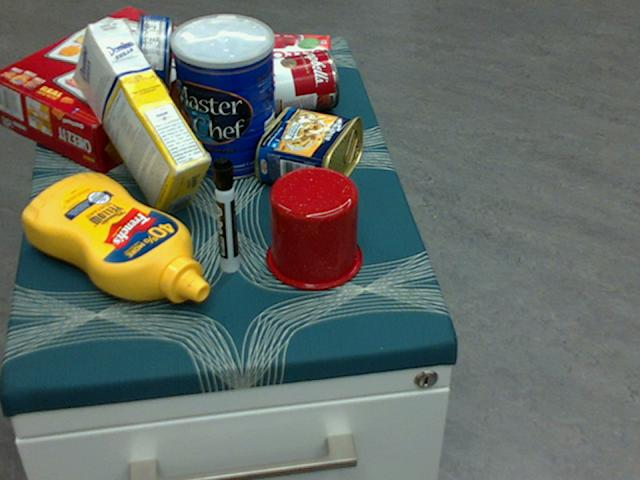cracker_box: (0, 8, 230, 174)
gelatin_box: (256, 34, 330, 80)
large_marker: (211, 157, 238, 271)
master_chef_can: (171, 13, 276, 179)
mug: (263, 165, 361, 289)
mustard_bottle: (22, 173, 209, 302)
potted_meat_can: (255, 104, 363, 200)
sugar_box: (74, 18, 213, 215)
tomato_soup_can: (239, 48, 339, 119)
tuna_fish_can: (134, 12, 172, 97)
